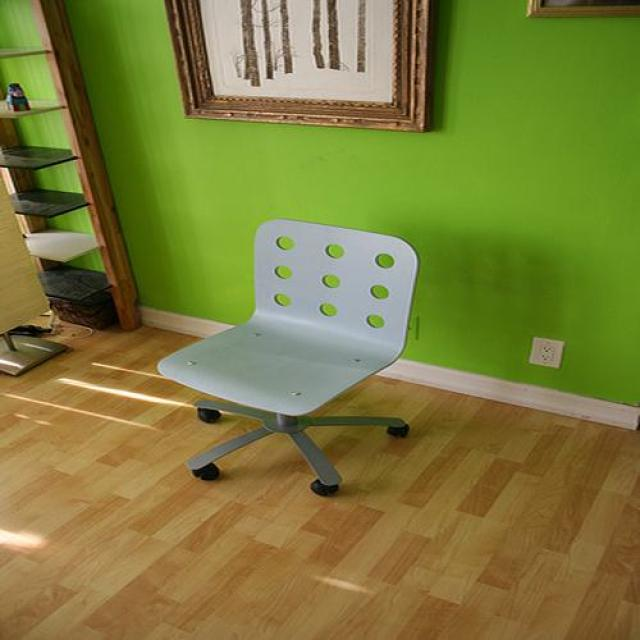swivelchair: (156, 220, 420, 497)
